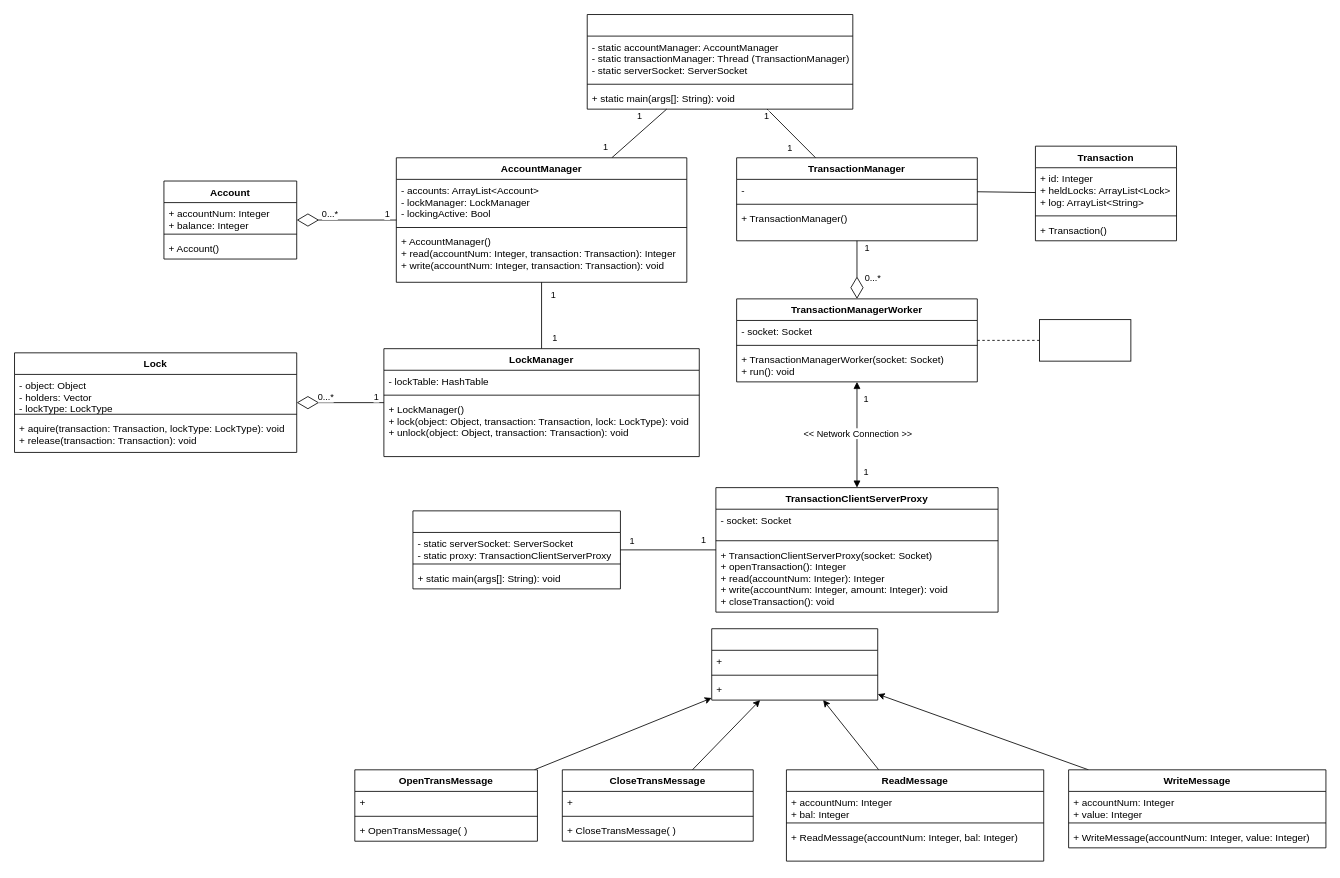
Some shapes in this 1340 by 878 pixel diagram are drawn without their labels. The shapes that lost their labels are listed below. From the top down, each one's box as (x1, y1, x2, y2) in pixels, then its label:
(586, 14, 853, 109): TransactionServerMain
(1039, 319, 1131, 361): «interface» Runnable
(412, 510, 620, 589): TransactionClientMain
(711, 628, 878, 700): Message (Abstract)
